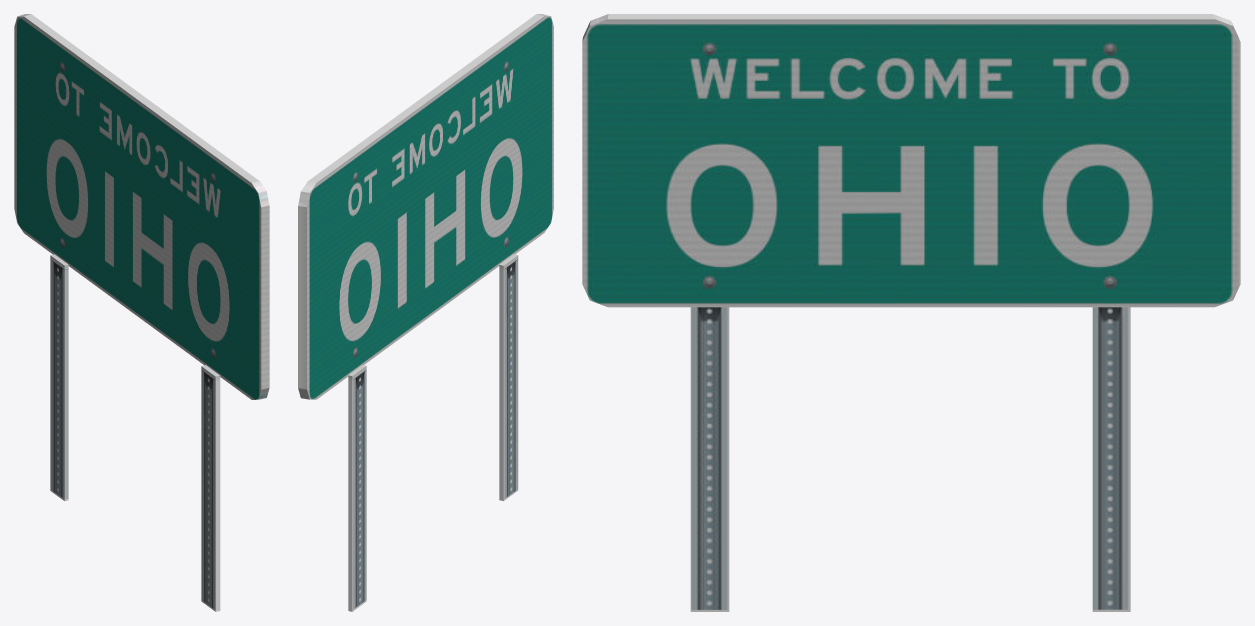
The model's file is WelcomeToOhio.fbx.
3 views of the same model, side by side, from view 1: azimuth 30°, elevation 25°; view 2: azimuth 150°, elevation 25°; view 3: azimuth 270°, elevation 25° (orthographic). The views are drawn at different scales.
Visible parts, largest first — view 1: Cube; view 2: Cube; view 3: Cube.
Part boxes in pixels (bbox=[...]): Cube: bbox=[14, 14, 269, 611]; Cube: bbox=[298, 14, 553, 611]; Cube: bbox=[582, 14, 1240, 611].
Bounding box in the file's own units: 27.9 × 920 × 918.
